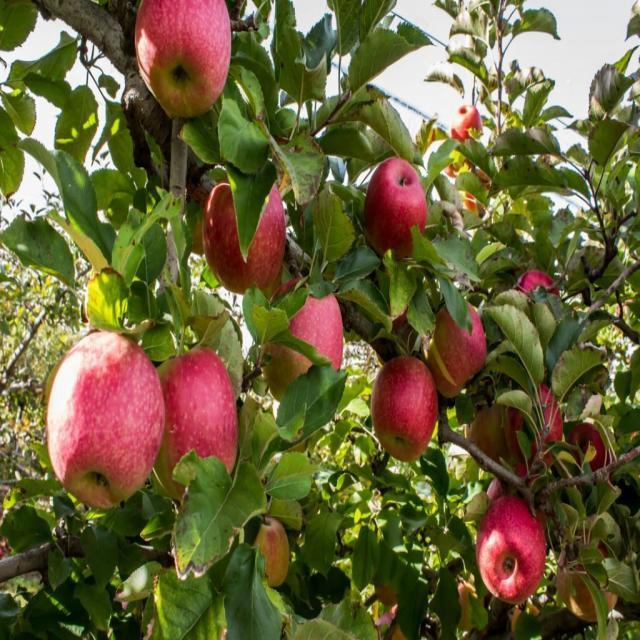Red Apple: (55, 338, 154, 496), (134, 1, 235, 109), (158, 347, 240, 475), (212, 180, 287, 293), (477, 499, 547, 602), (279, 280, 348, 384), (366, 161, 426, 255), (377, 360, 434, 451), (436, 306, 485, 390), (514, 389, 562, 453), (521, 269, 557, 315), (572, 423, 605, 467), (457, 103, 484, 148)
